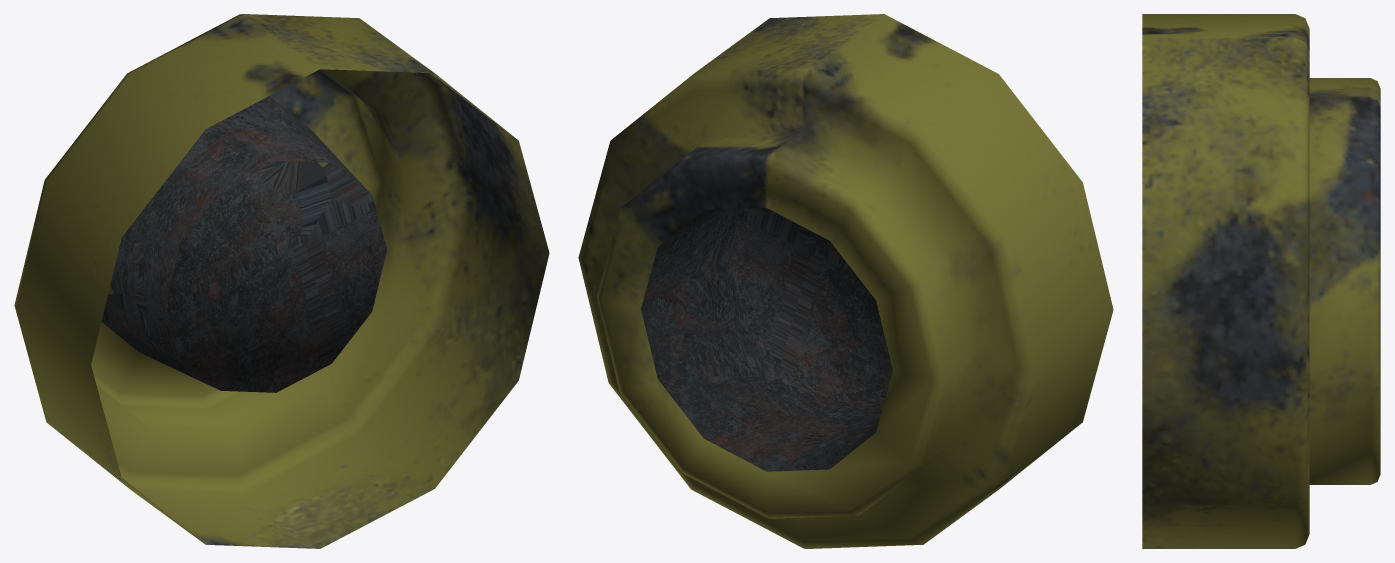
The model's file is valve1.fbx.
3 renders of one model, left to right at view 1: azimuth 30°, elevation 25°; view 2: azimuth 150°, elevation 25°; view 3: azimuth 270°, elevation 25°, orthographic.
Parts seen in each view (by area): view 1: valve.001; view 2: valve.001; view 3: valve.001.
Boxes of the visible parts, x1,y1,x2,y2 form: valve.001: (14, 14, 549, 548); valve.001: (578, 14, 1113, 548); valve.001: (1142, 14, 1380, 548).
Size of the model in its own units: 46.96 by 46.96 by 20.82.
